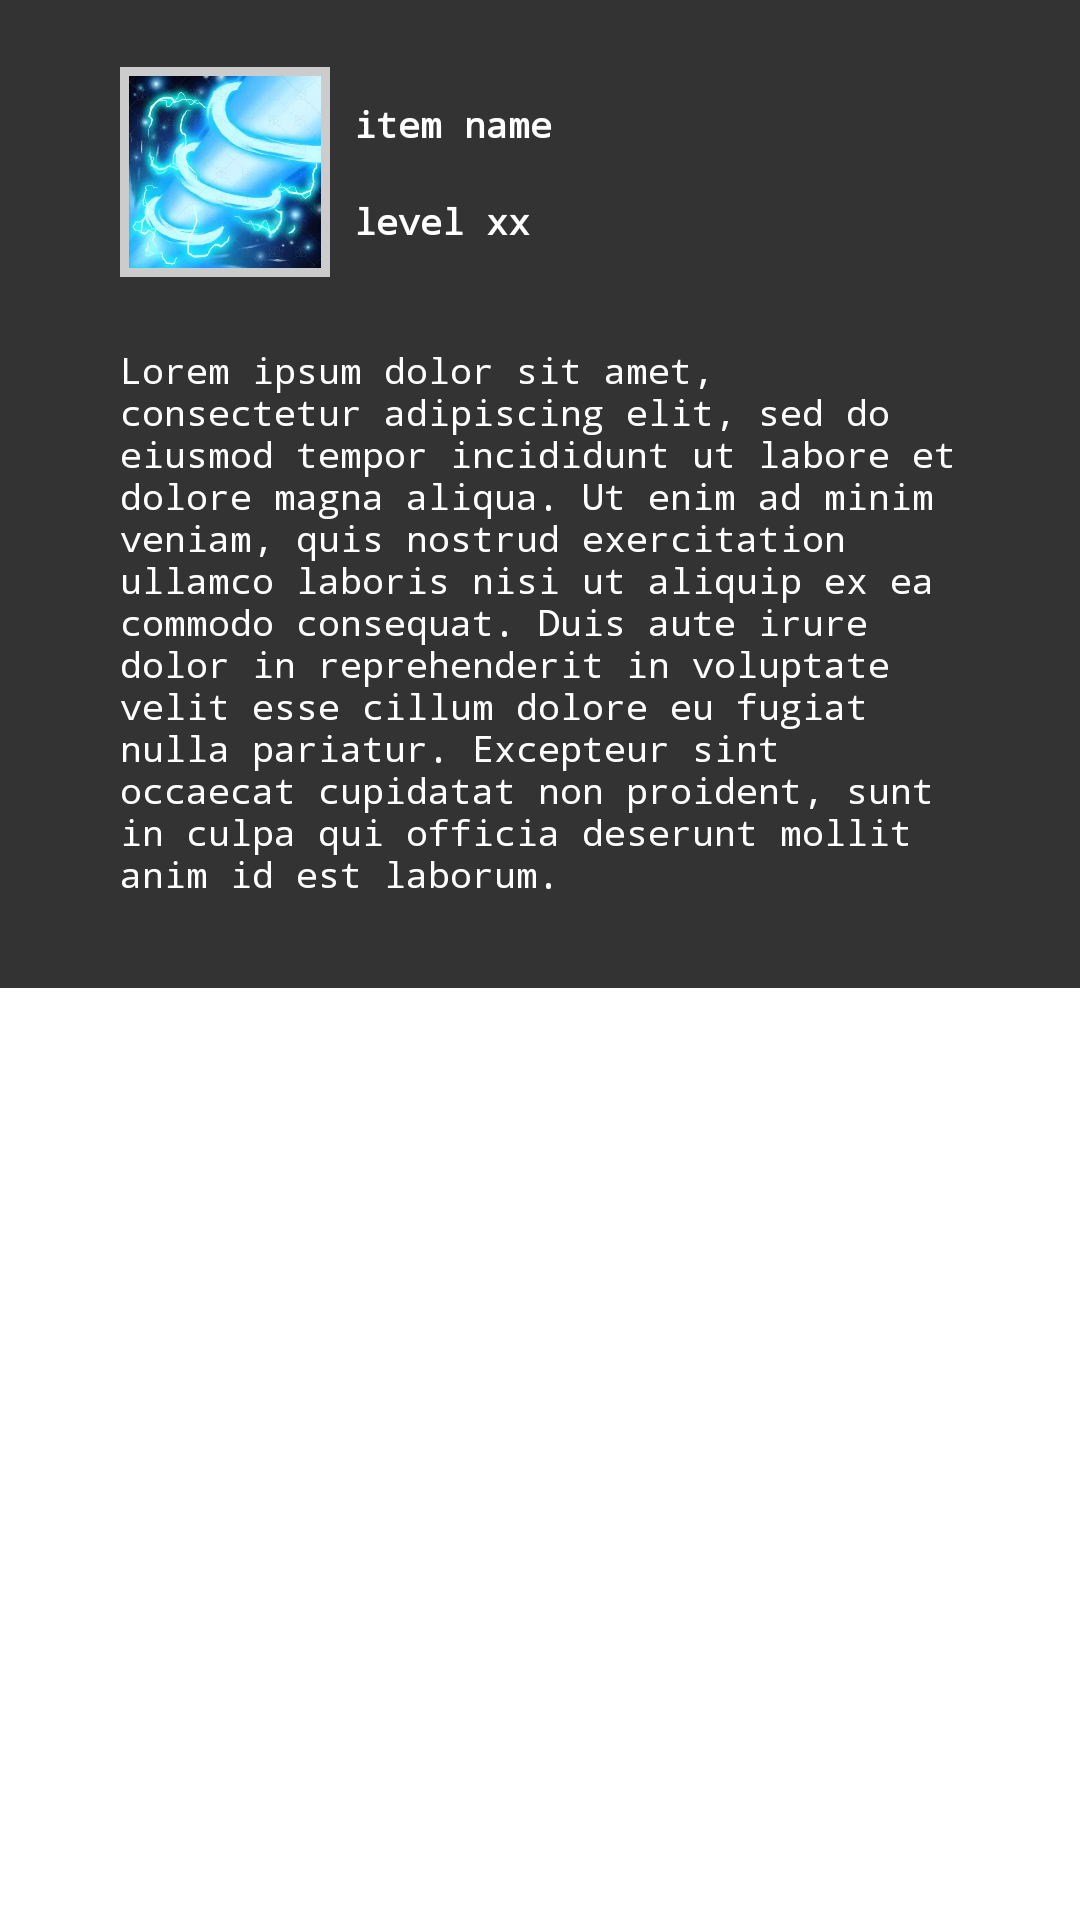

Icon click points for this 1080w x 1920h phone screenshot, format (x,y):
skill spring laser: (225,172)
